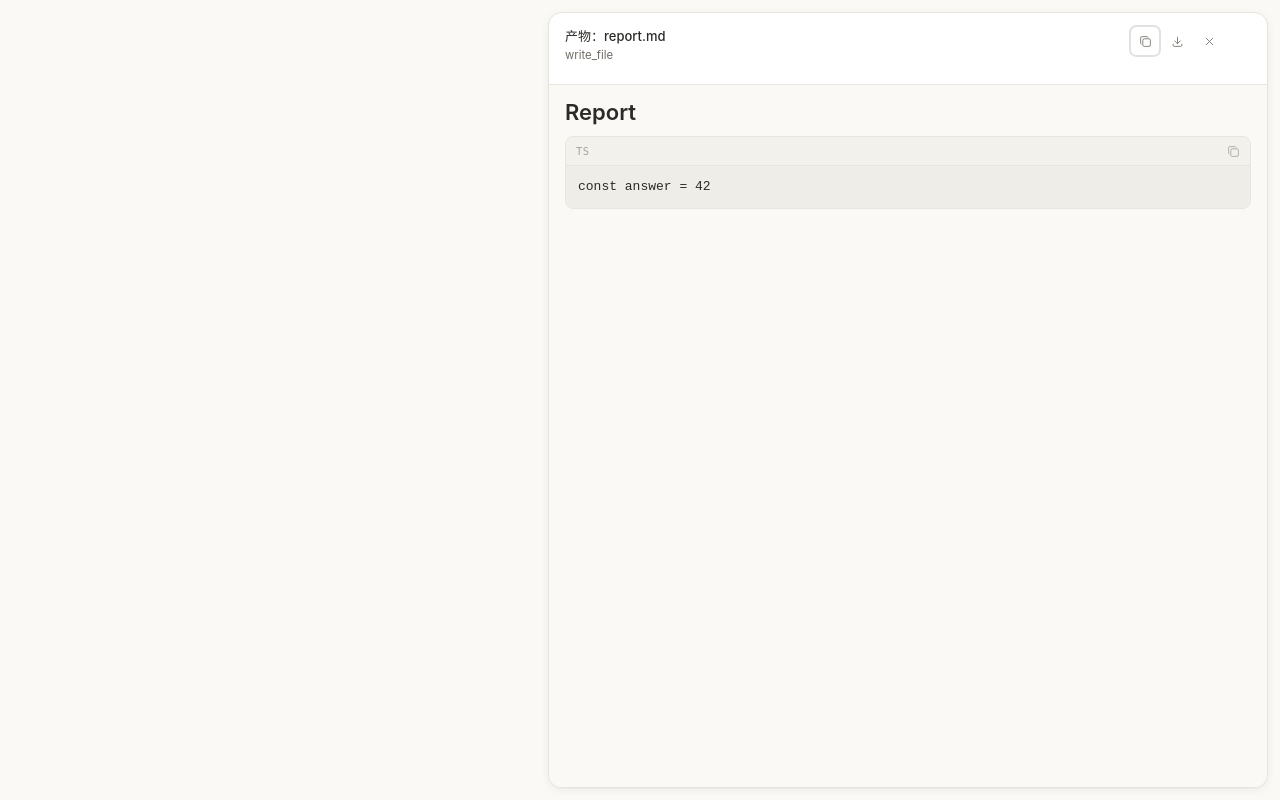
ArtifactPanel › renders markdown artifacts with highlighted fenced code and actions
This screenshot has width=1280, height=800.
Expected: the heading "Report" is shown, left=565, top=99, right=636, bottom=125
Expected: the element with class "code-block" is shown, left=565, top=136, right=1251, bottom=209
Click the button named "复制产物".
click(1145, 41)  # box left=1131, top=27, right=1159, bottom=55
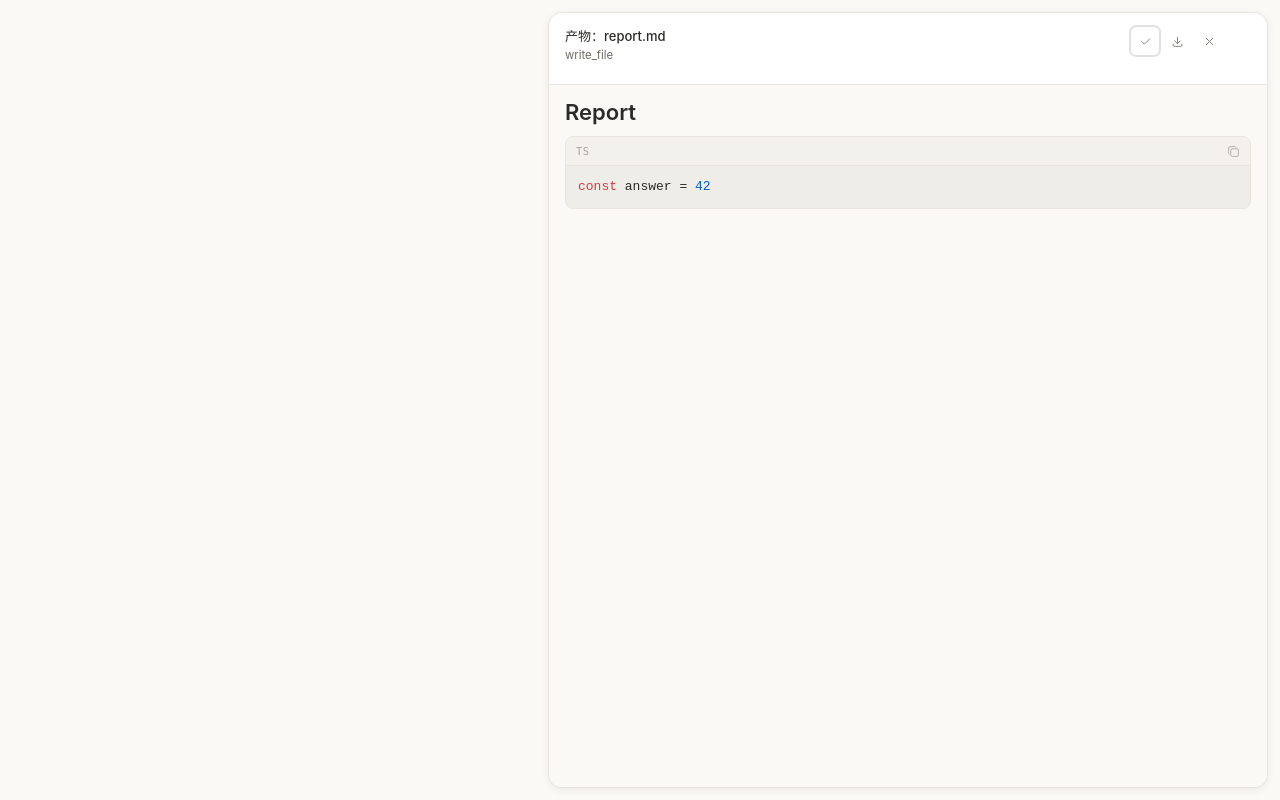
Now the button named "已复制产物" is shown, box left=1131, top=27, right=1159, bottom=55
